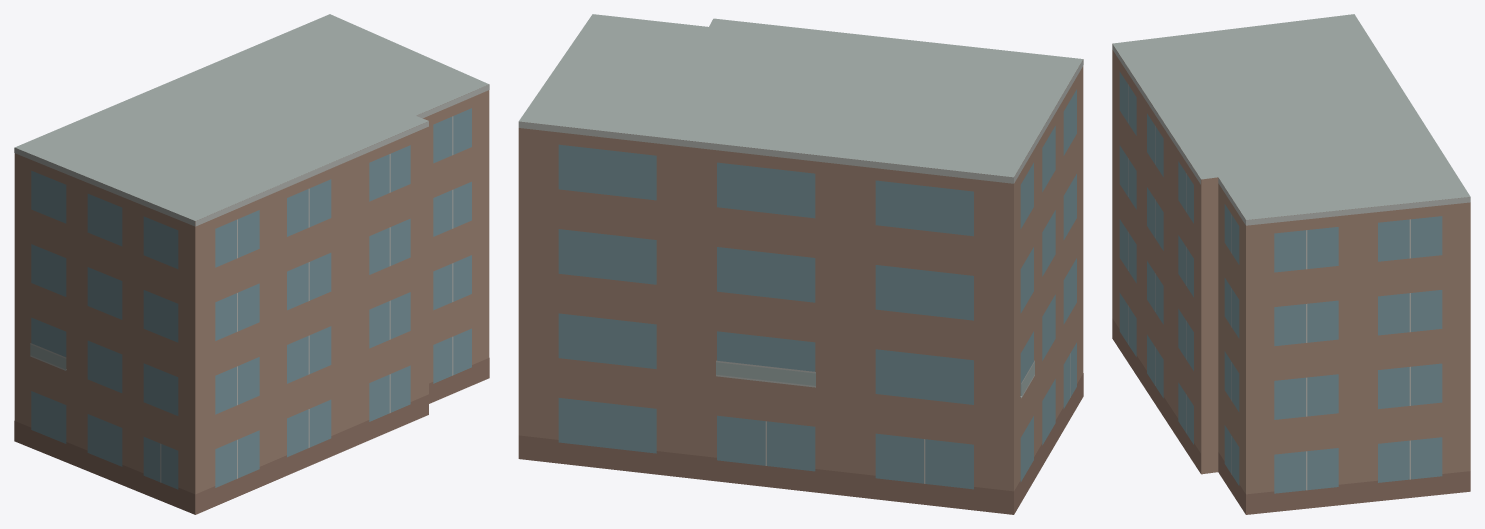
The model's file is survey-upis-32621713.glb.
The picture shows the model from 3 angles, left to right: view 1: azimuth 30°, elevation 25°; view 2: azimuth 150°, elevation 25°; view 3: azimuth 270°, elevation 25°; orthographic projection. The views are drawn at different scales.
Visible parts, largest first — view 1: survey-upis-32621713.tmp; view 2: survey-upis-32621713.tmp; view 3: survey-upis-32621713.tmp.
Part boxes in pixels (x1,y1,x2,y2): survey-upis-32621713.tmp: (14, 14, 489, 514); survey-upis-32621713.tmp: (518, 14, 1083, 514); survey-upis-32621713.tmp: (1112, 14, 1470, 514).
Size of the model in its own units: 19.2 by 12.8 by 14.11.
